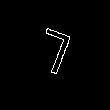L_S: (31, 26, 79, 84)
